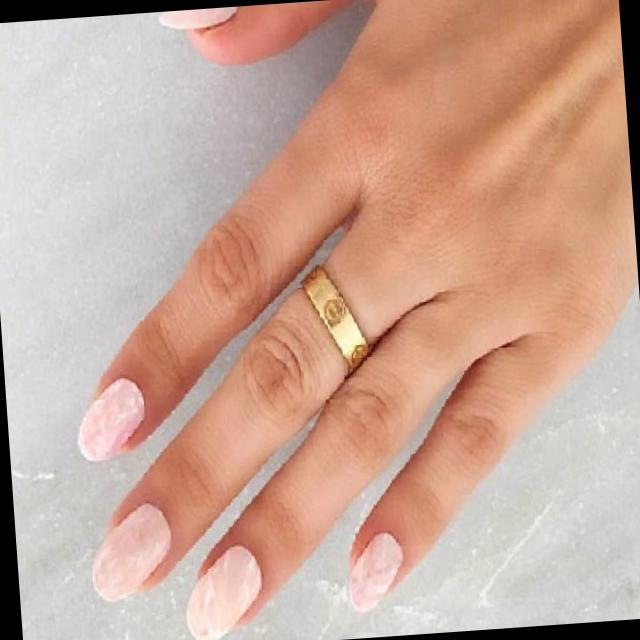Nail: (92, 502, 171, 599), (186, 545, 260, 640), (77, 377, 143, 459), (348, 532, 402, 610), (161, 8, 236, 28)
